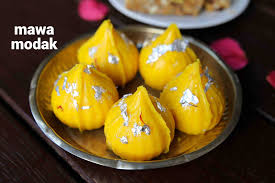modak: (44, 60, 128, 136), (169, 57, 235, 140), (110, 83, 178, 162), (74, 17, 147, 80), (132, 25, 204, 87)
